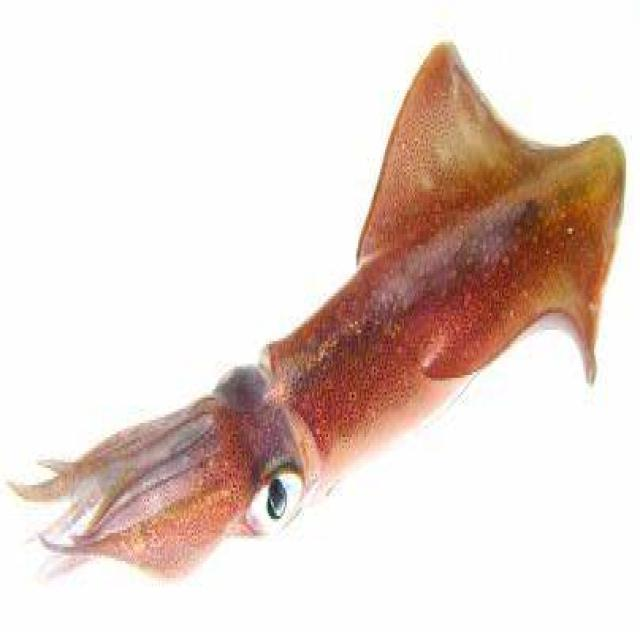SQUID: (25, 37, 640, 566)
